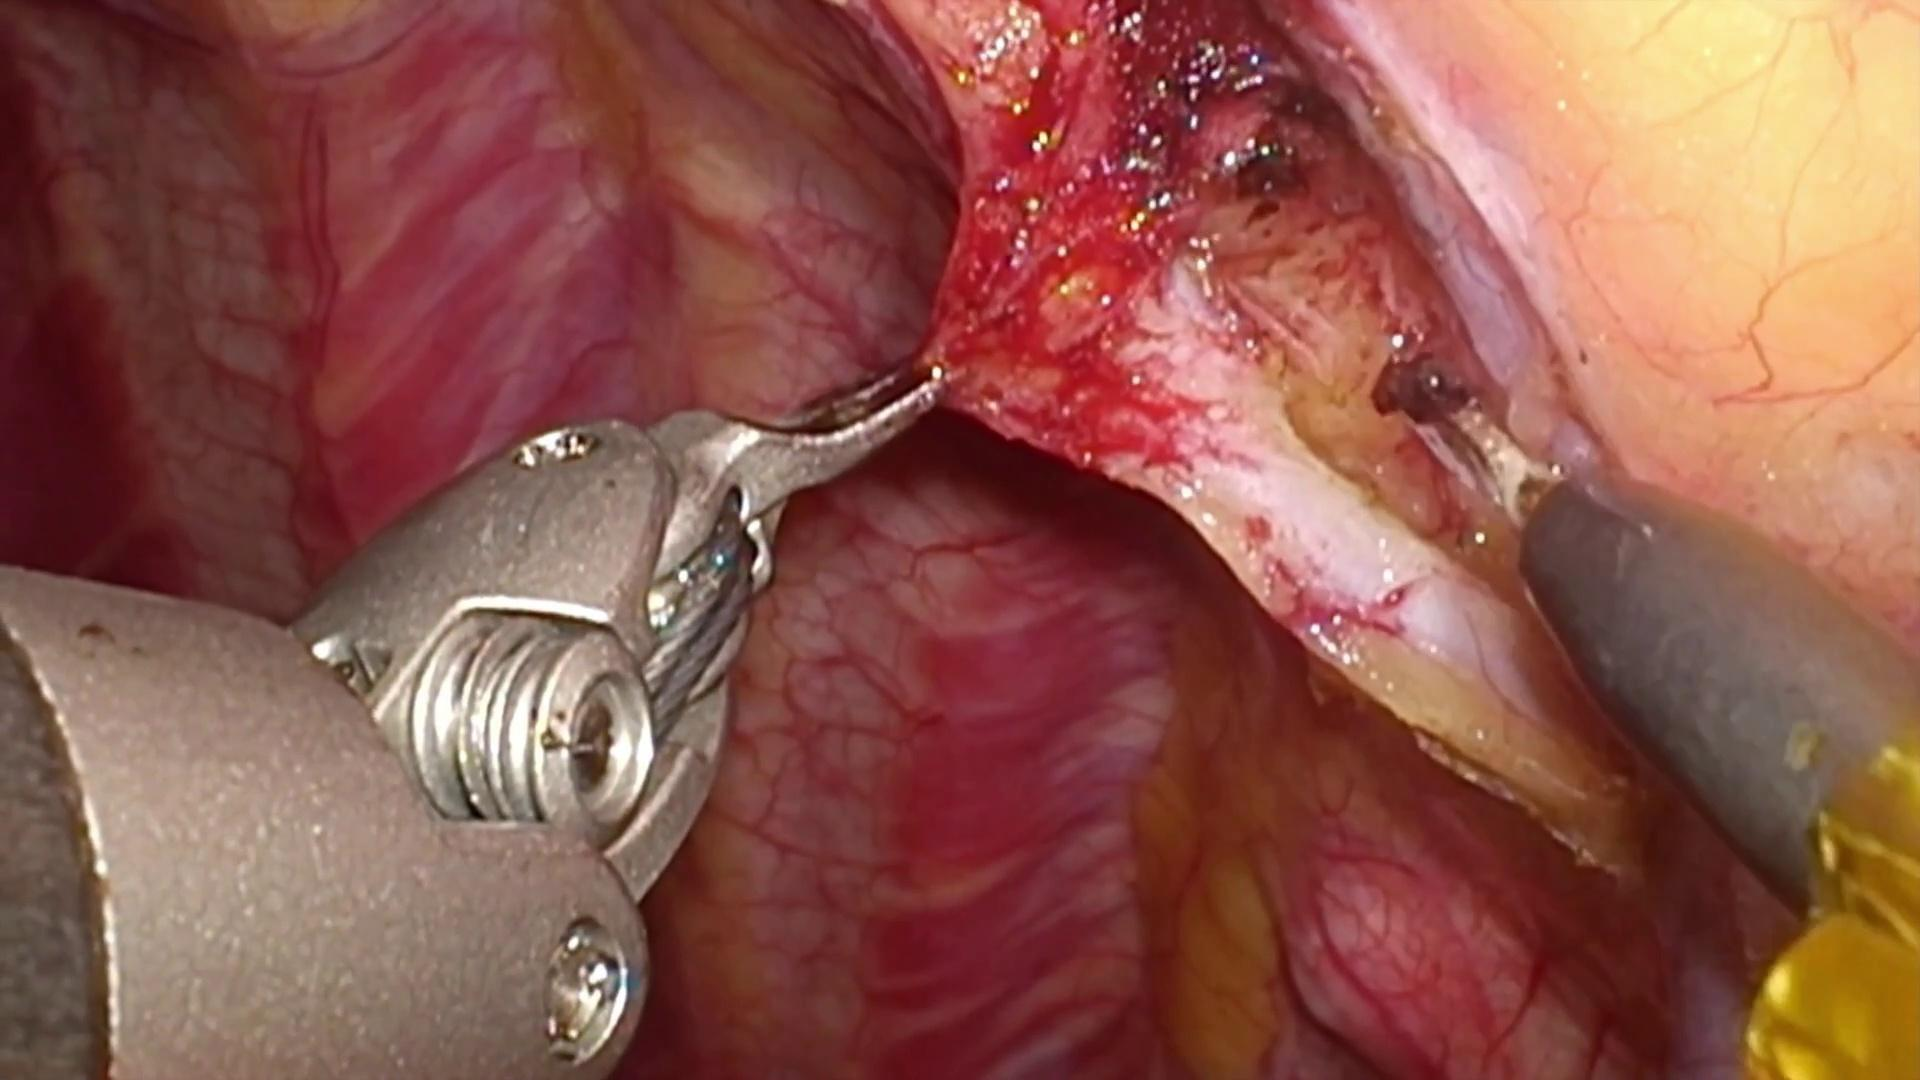Cautery_Spatula: (1375, 344, 1920, 913)
Debakey: (650, 363, 955, 589)
